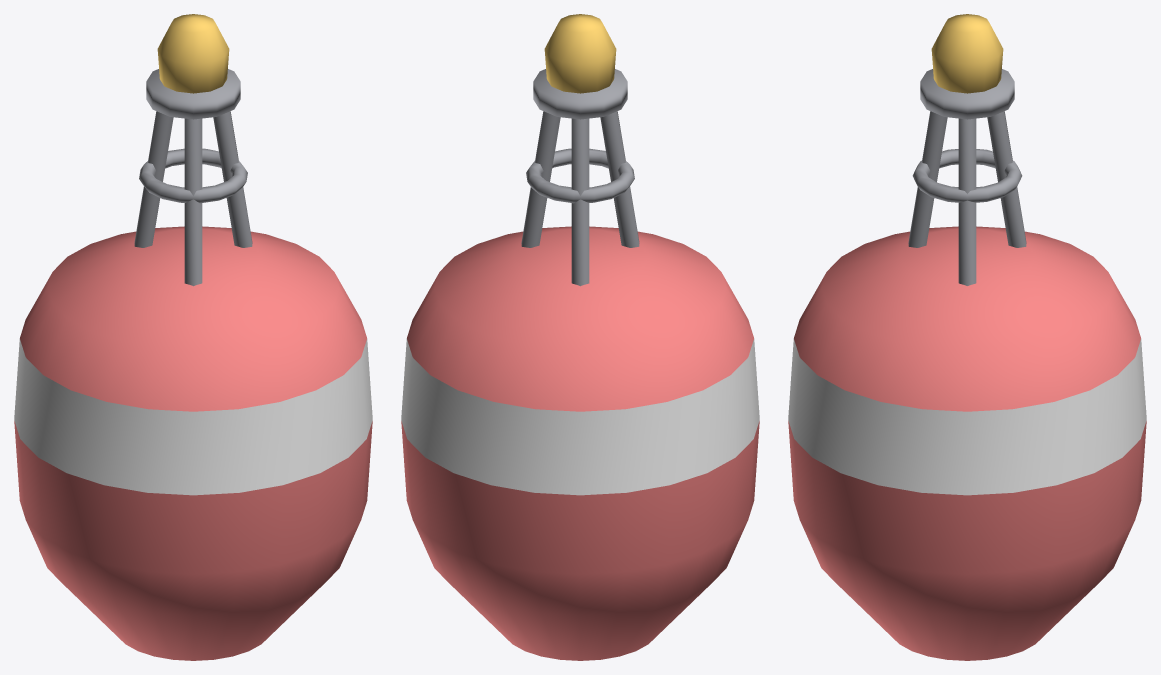
File: BumperBuoy.glb
3 views of the same model, side by side, from view 1: azimuth 30°, elevation 25°; view 2: azimuth 150°, elevation 25°; view 3: azimuth 270°, elevation 25° (orthographic).
Parts seen in each view (by area): view 1: Red, White, Metal, Lamp; view 2: Red, White, Metal, Lamp; view 3: Red, White, Metal, Lamp.
Part boxes in pixels (left/top/right/bottom): Red: left=14, top=226, right=372, bottom=660; White: left=14, top=339, right=372, bottom=495; Metal: left=134, top=69, right=252, bottom=286; Lamp: left=157, top=14, right=229, bottom=93; Red: left=401, top=226, right=759, bottom=660; White: left=401, top=339, right=759, bottom=495; Metal: left=521, top=69, right=639, bottom=286; Lamp: left=544, top=14, right=616, bottom=93; Red: left=788, top=226, right=1146, bottom=660; White: left=788, top=339, right=1146, bottom=495; Metal: left=908, top=69, right=1026, bottom=285; Lamp: left=931, top=14, right=1003, bottom=93.
Bounding box in the file's own units: 3.2 × 6.15 × 3.2.
